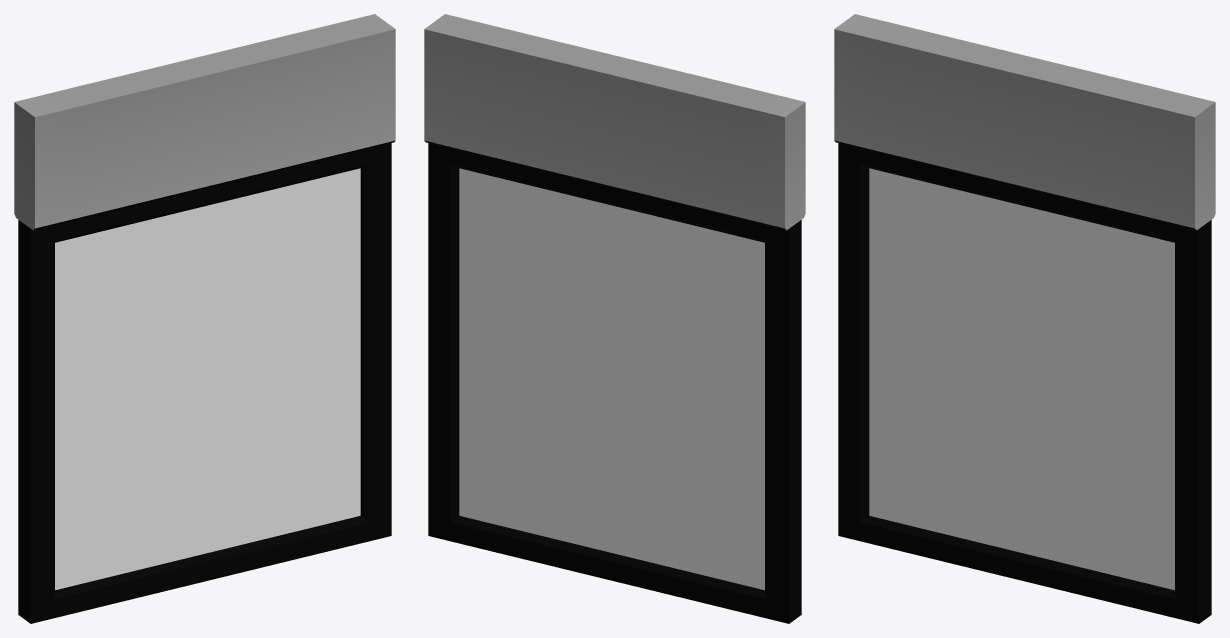
File: WindowWall Alt.glb
3 renders of one model, left to right at view 1: azimuth 30°, elevation 25°; view 2: azimuth 150°, elevation 25°; view 3: azimuth 330°, elevation 25°, orthographic.
Visible parts, largest first — view 1: Window99.001; view 2: Window99.001; view 3: Window99.001.
Boxes of the visible parts, bbox=[...] form: Window99.001: bbox=[14, 14, 395, 623]; Window99.001: bbox=[424, 14, 805, 623]; Window99.001: bbox=[834, 14, 1215, 623].
Size of the model in its own units: 2 by 2.7 by 0.2.
2 materials, 1 textured.
